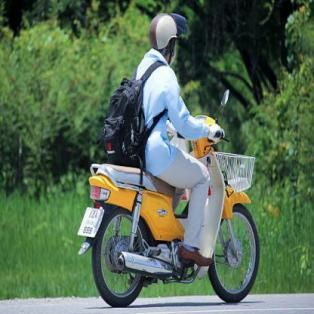Motocicleta: (74, 106, 261, 308)
